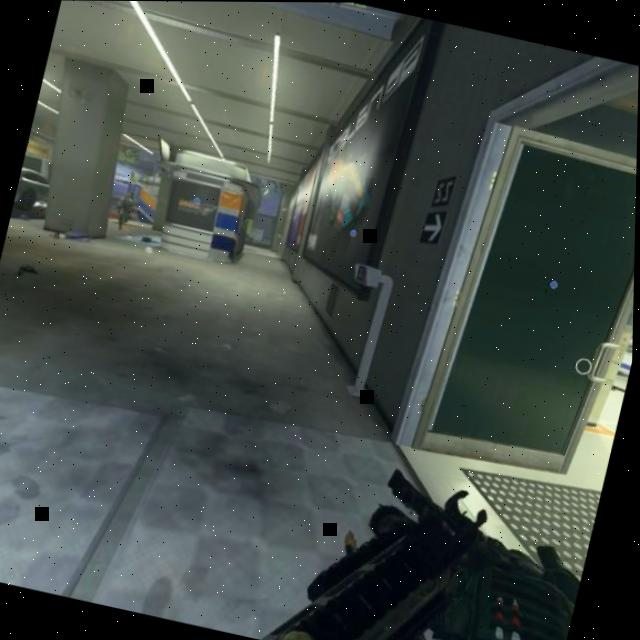MW2_body: (110, 190, 139, 232)
